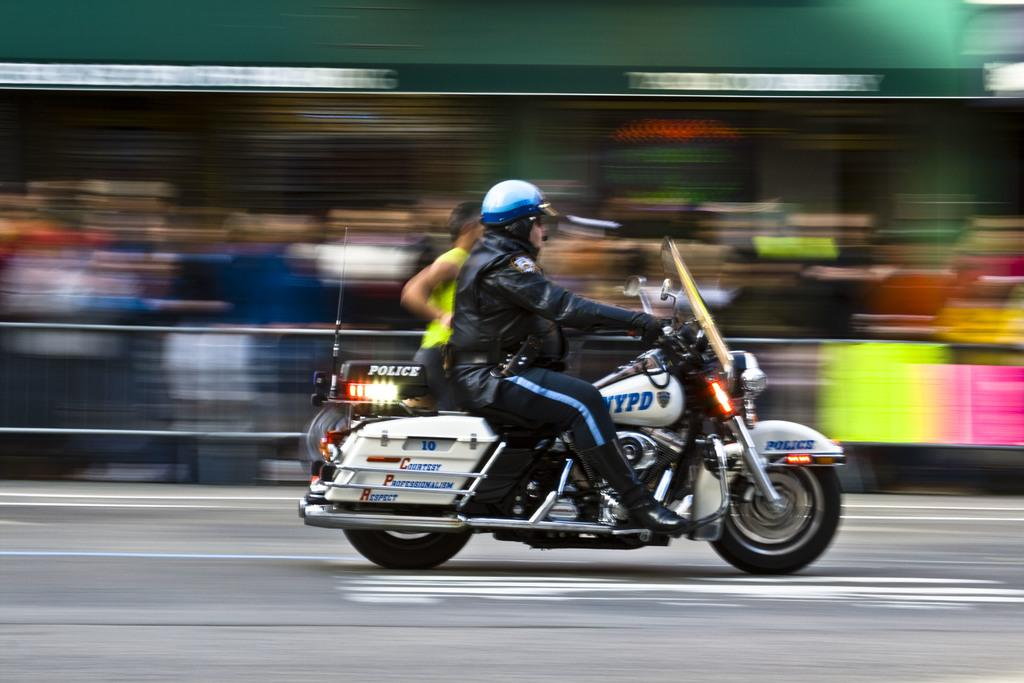helmet: (481, 179, 560, 247)
